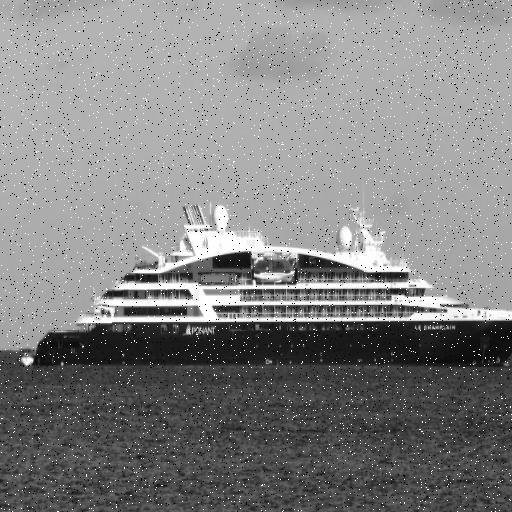cruises: (30, 188, 512, 377)
